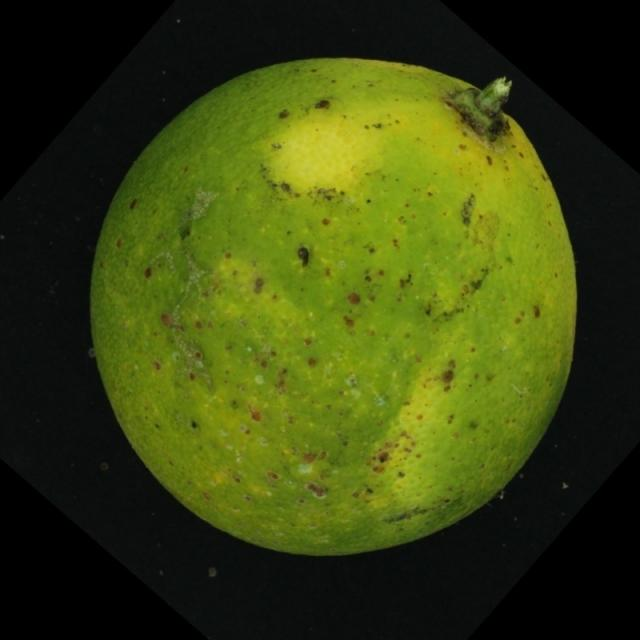grenning: (68, 30, 603, 583)
